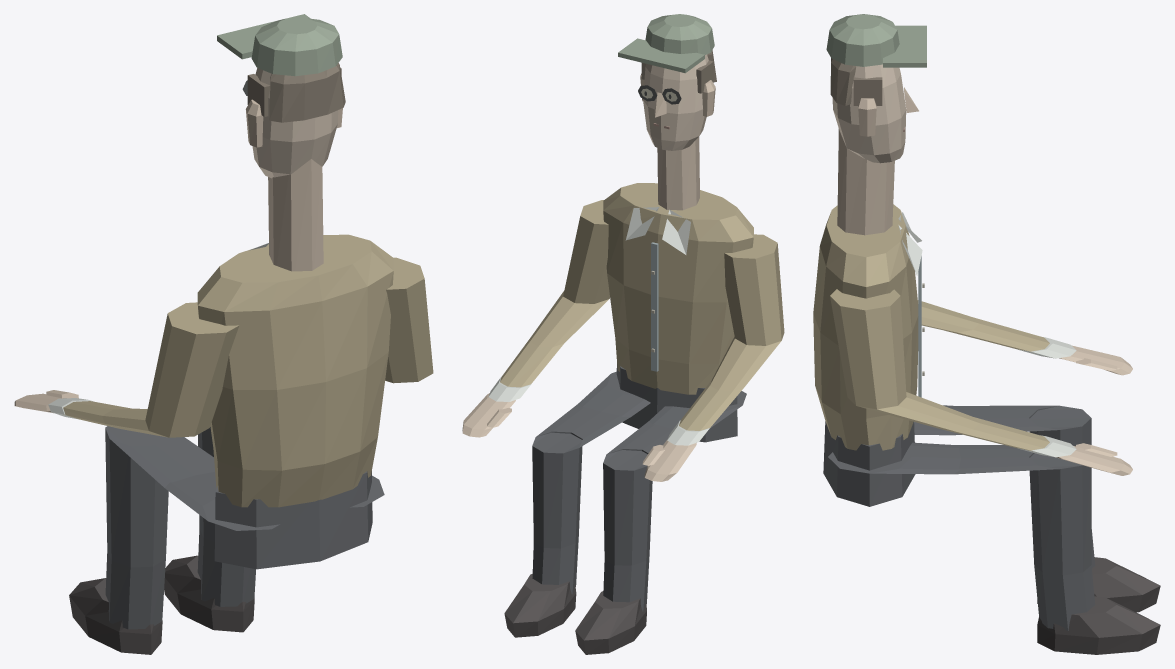
File: 03_long_neck_worker_seated.gltf
The picture shows the model from 3 angles, left to right: view 1: azimuth 30°, elevation 25°; view 2: azimuth 150°, elevation 25°; view 3: azimuth 270°, elevation 25°; orthographic projection. The views are drawn at different scales.
Parts seen in each view (by area): view 1: shirt_torso_5, L_trouser_0, left_sleeve_6, pelvis_4, neck_14, right_sleeve_10, work_cap_35, head_15, R_trouser_2, leather_shoe_1, hair_back_24, leather_shoe_3 (+3 smaller); view 2: shirt_torso_5, R_trouser_2, left_sleeve_6, L_trouser_0, right_sleeve_10, head_15, leather_shoe_3, leather_shoe_1, neck_14, pelvis_4, work_cap_35, cap_brim_36 (+7 smaller); view 3: R_trouser_2, shirt_torso_5, right_sleeve_10, leather_shoe_3, pelvis_4, neck_14, head_15, L_trouser_0, work_cap_35, left_sleeve_6, leather_shoe_1, cap_brim_36 (+8 smaller).
Boxes of the visible parts, box(x1,y1,x2,y2) form: shirt_torso_5: box(197, 234, 393, 507); L_trouser_0: box(105, 426, 279, 629); left_sleeve_6: box(63, 302, 239, 437); pelvis_4: box(214, 471, 372, 569); neck_14: box(268, 159, 323, 271); right_sleeve_10: box(385, 257, 433, 383); work_cap_35: box(251, 17, 342, 76); head_15: box(252, 68, 338, 178); R_trouser_2: box(197, 427, 384, 606); leather_shoe_1: box(69, 578, 162, 654); hair_back_24: box(269, 63, 345, 122); leather_shoe_3: box(164, 555, 254, 632); shirt_torso_5: box(603, 183, 753, 394); R_trouser_2: box(532, 371, 650, 594); left_sleeve_6: box(679, 234, 784, 430); L_trouser_0: box(603, 391, 746, 611); right_sleeve_10: box(500, 200, 609, 387); head_15: box(643, 54, 708, 150); leather_shoe_3: box(504, 574, 576, 637); leather_shoe_1: box(575, 591, 646, 654); neck_14: box(657, 136, 699, 210); pelvis_4: box(616, 364, 737, 442); work_cap_35: box(645, 14, 714, 54); cap_brim_36: box(618, 38, 704, 73); R_trouser_2: box(828, 442, 1095, 630); shirt_torso_5: box(813, 204, 918, 450); right_sleeve_10: box(830, 289, 1049, 451); leather_shoe_3: box(1037, 596, 1160, 654); pelvis_4: box(823, 421, 915, 506); neck_14: box(837, 129, 894, 235); head_15: box(832, 64, 906, 163); L_trouser_0: box(914, 405, 1095, 568); work_cap_35: box(826, 14, 899, 66); left_sleeve_6: box(917, 300, 1049, 351); leather_shoe_1: box(1037, 557, 1160, 612); cap_brim_36: box(883, 25, 926, 67).
Bounding box in the file's own units: 0.64 × 1.51 × 0.788.
